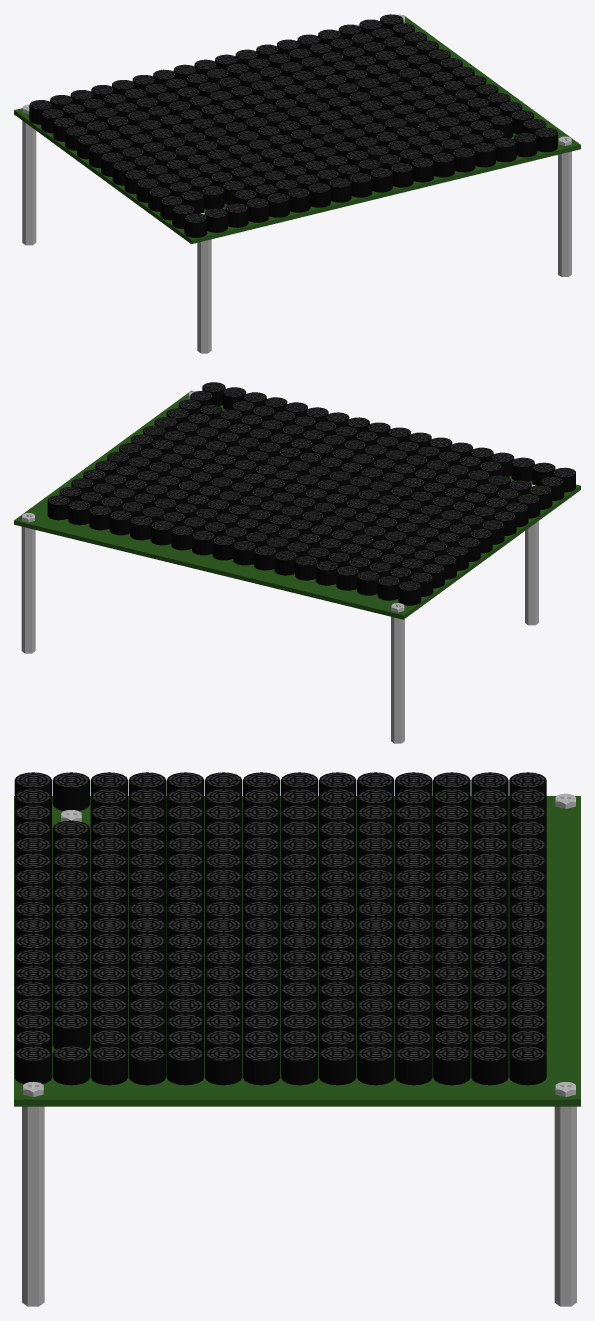
Rendered from autd3.glb.
3 renders of one model, top to bottom at view 1: azimuth 30°, elevation 25°; view 2: azimuth 150°, elevation 25°; view 3: azimuth 270°, elevation 25°, orthographic. The views are drawn at different scales.
Visible parts, largest first — view 1: Transducer; view 2: Transducer; view 3: Transducer.
Part boxes in pixels (bbox=[...]): Transducer: bbox=[14, 14, 580, 353]; Transducer: bbox=[14, 382, 580, 743]; Transducer: bbox=[14, 772, 580, 1306].
Bounding box in the file's own units: 192 × 69 × 151.
3 materials, 1 textured.
